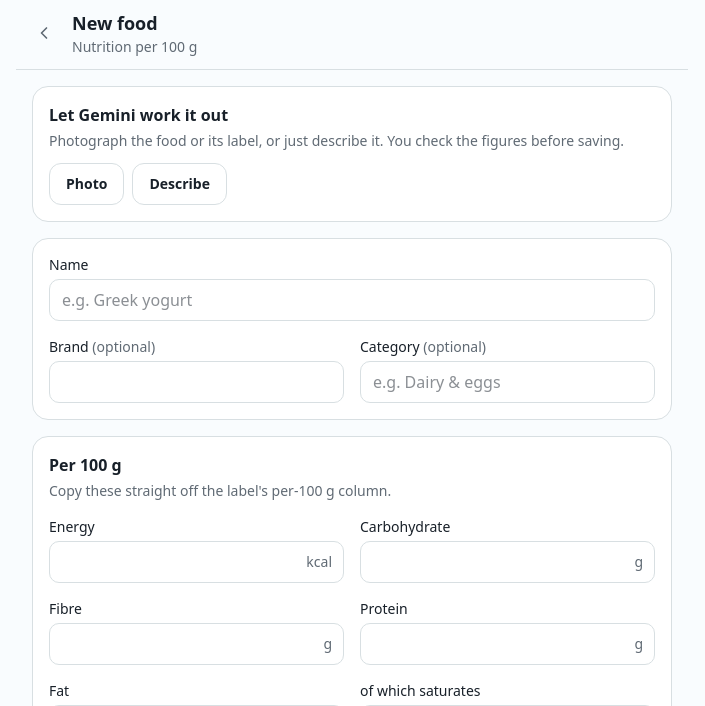
Test: FoodEditPage — new food › previews the portion once a weight is entered
In the number field labelled "Energy": (196, 562) x1=49 y1=541 x2=344 y2=583, type "400"
(page scrolled)
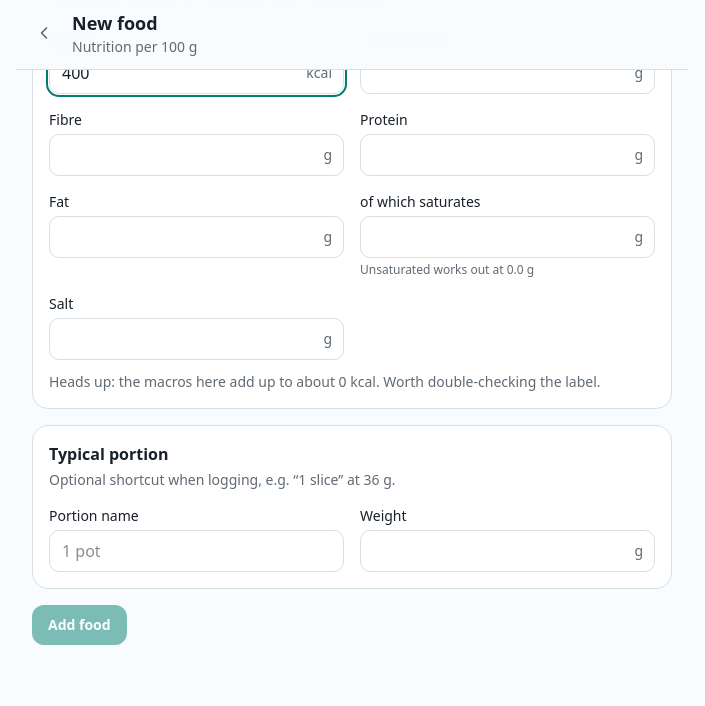
In the number field labelled "Weight": (508, 551) x1=360 y1=530 x2=655 y2=572, type "50"
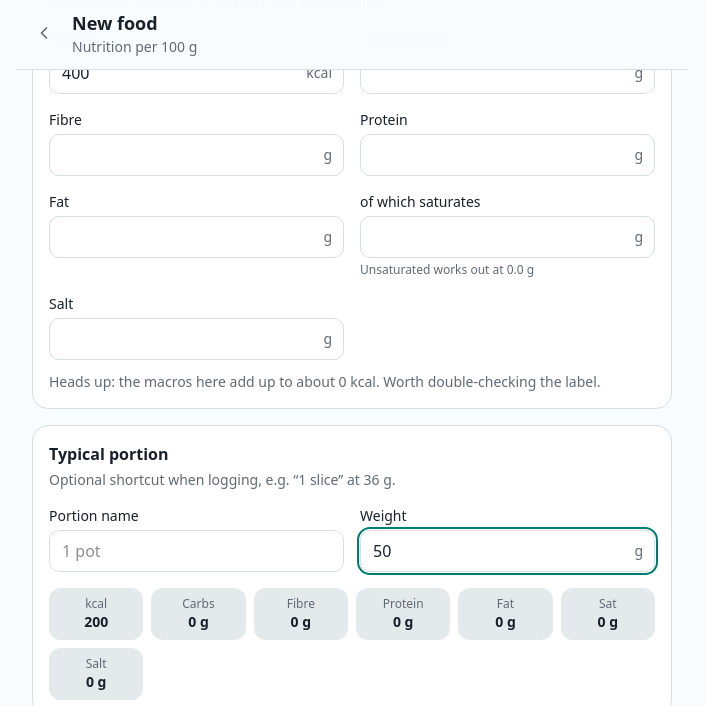
Check: the text "200" is shown, box x1=84 y1=612 x2=108 y2=631
